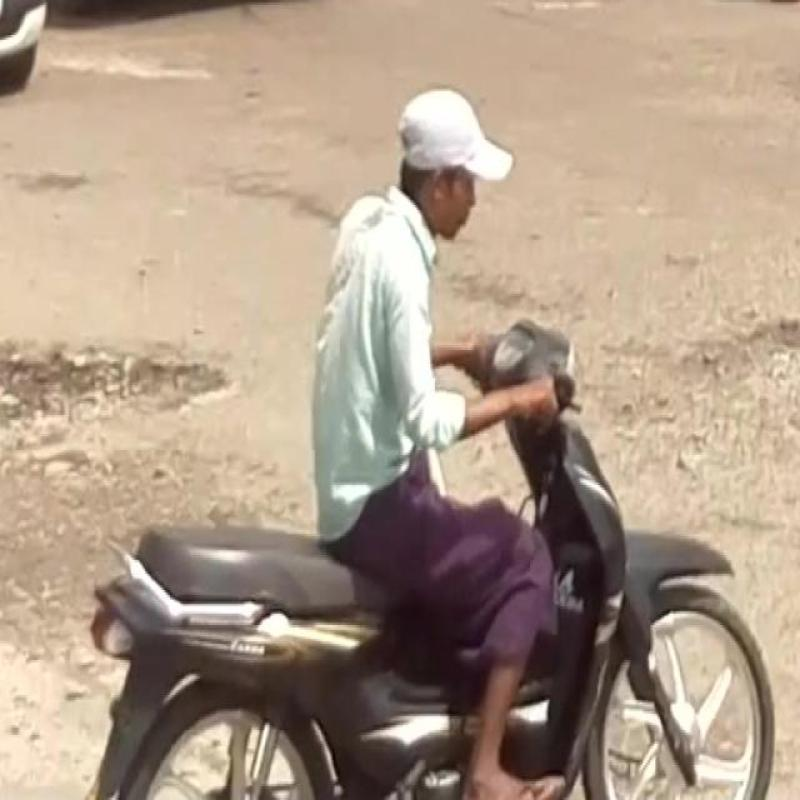nohelmet: (386, 67, 505, 237)
